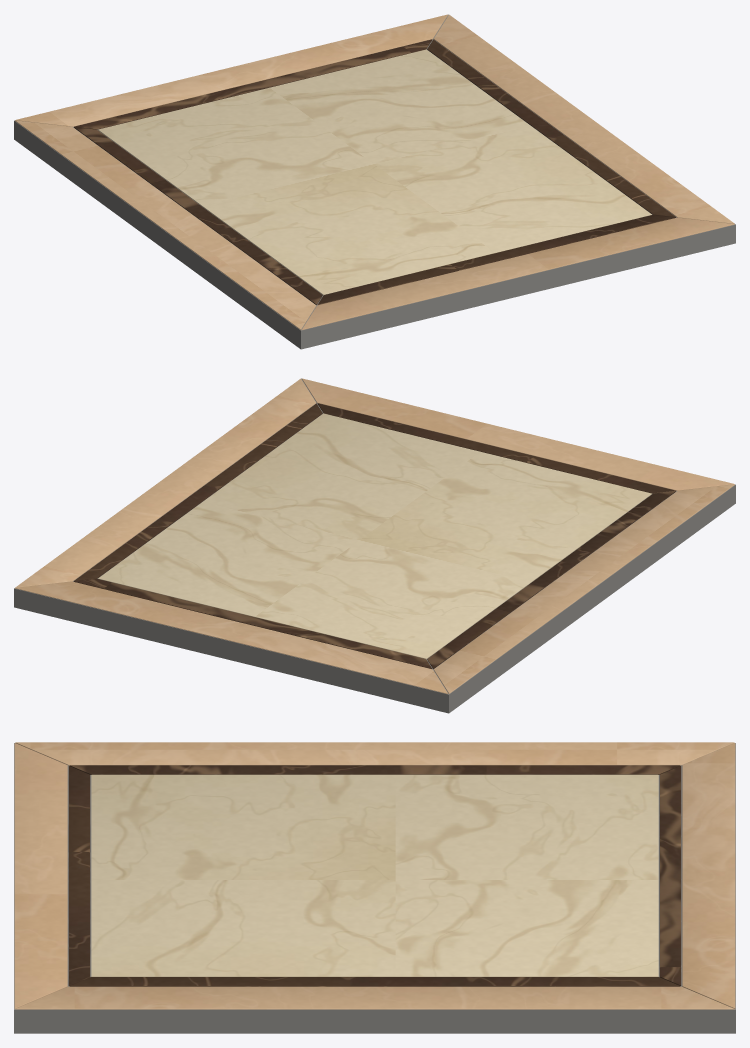
The model's file is floor_KA-DB033.glb.
3 views of the same model, one above another, from view 1: azimuth 30°, elevation 25°; view 2: azimuth 150°, elevation 25°; view 3: azimuth 270°, elevation 25° (orthographic). The views are drawn at different scales.
Parts seen in each view (by area): view 1: Floor; view 2: Floor; view 3: Floor.
Boxes of the visible parts, box(x1,y1,x2,y2) form: Floor: box(14, 14, 735, 349); Floor: box(14, 378, 735, 713); Floor: box(14, 742, 735, 1033).
Bounding box in the file's own units: 1.4 × 0.06 × 1.6.
4 materials, 3 textured.
